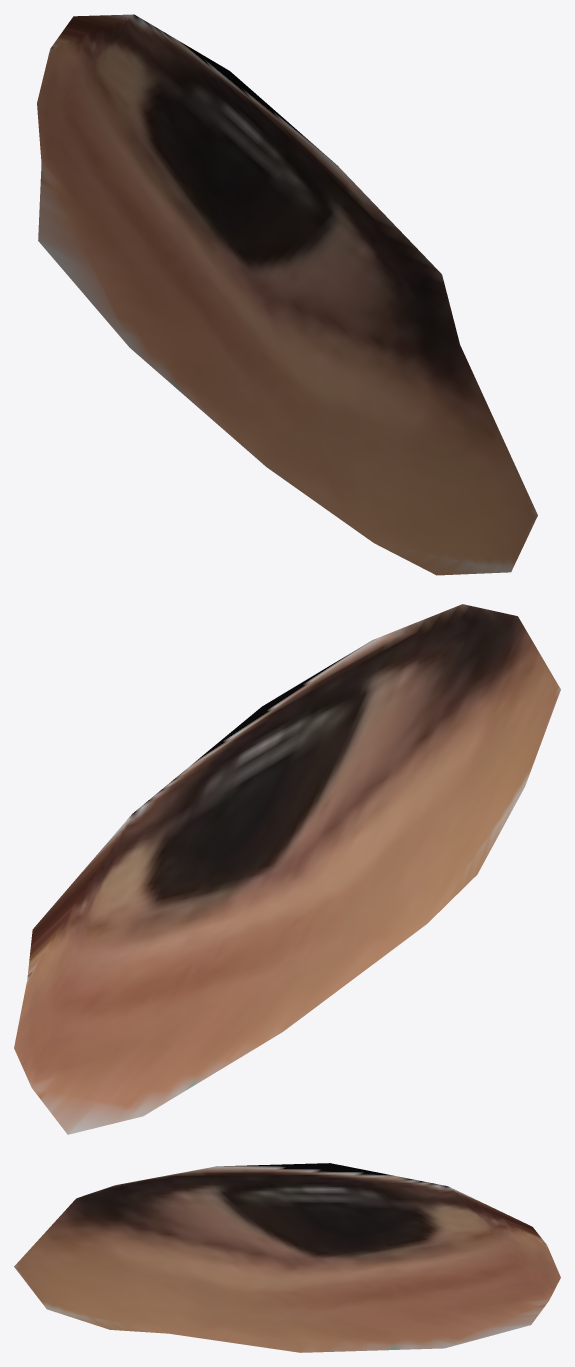
Rendered from lefteye.glb.
3 renders of one model, top to bottom at view 1: azimuth 30°, elevation 25°; view 2: azimuth 150°, elevation 25°; view 3: azimuth 270°, elevation 25°, orthographic. The views are drawn at different scales.
Parts seen in each view (by area): view 1: 平面.001; view 2: 平面.001; view 3: 平面.001.
Boxes of the visible parts, bbox=[...] form: 平面.001: bbox=[37, 14, 537, 575]; 平面.001: bbox=[14, 604, 560, 1134]; 平面.001: bbox=[14, 1163, 560, 1352].
Bounding box in the file's own units: 0.00261 × 0.0134 × 0.0354.
1 material, 1 textured.
